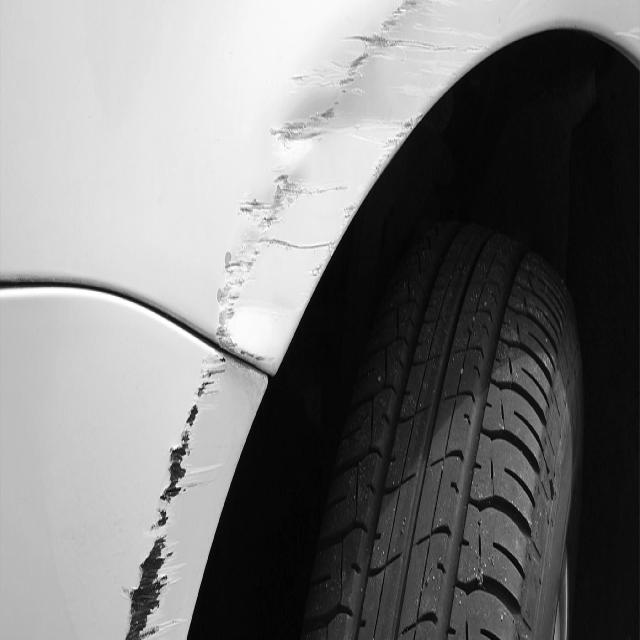dent: (276, 70, 403, 177)
scratch: (119, 0, 498, 640)
